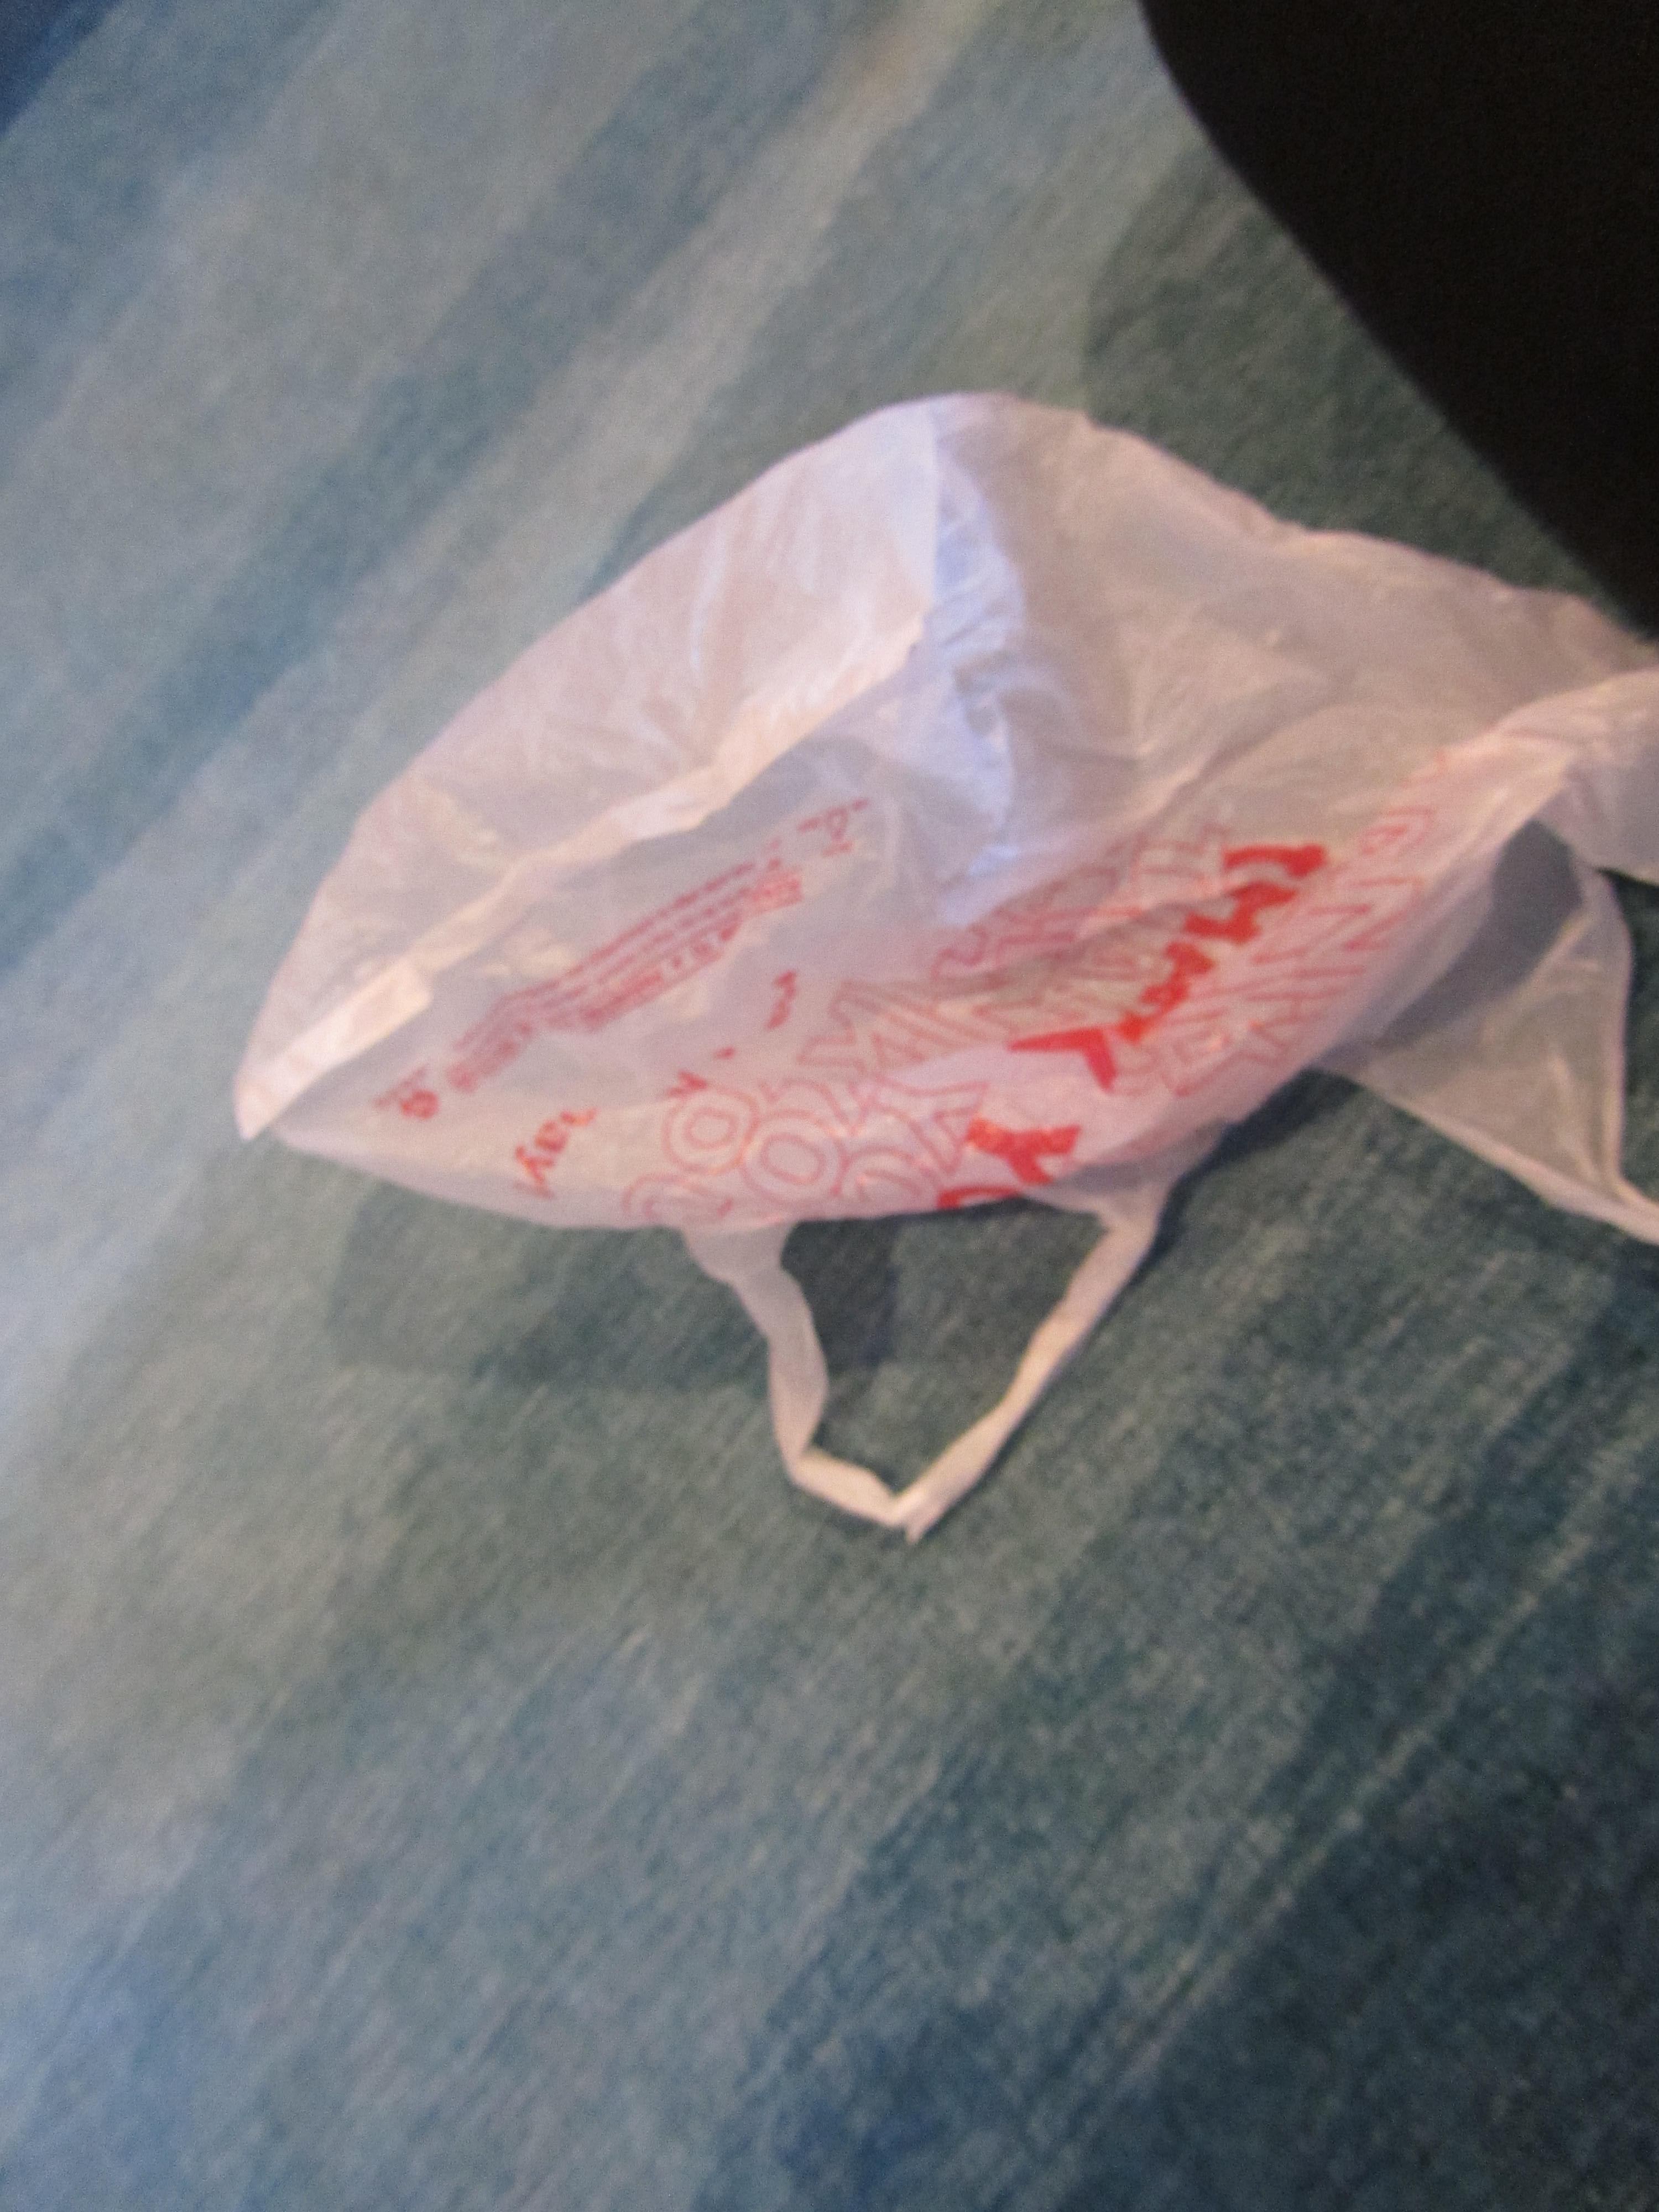plastic_bag: (221, 397, 1659, 1550)
